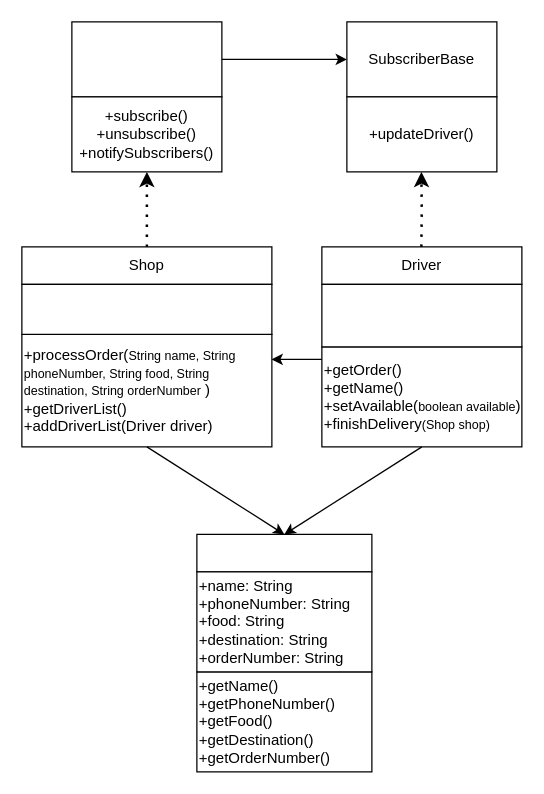
The diagram is 544 pixels wide and 794 high, and some of its shapes have lost their labels. Here are the shapes that lost their labels. From the top down, the centre of each, then its label:
point (146, 59): PublisherBase
point (146, 308): +driverList: ArrayList
point (421, 315): +name: String +order: DeliveryRequest +available: boolean
point (284, 552): DeliveryRequest
